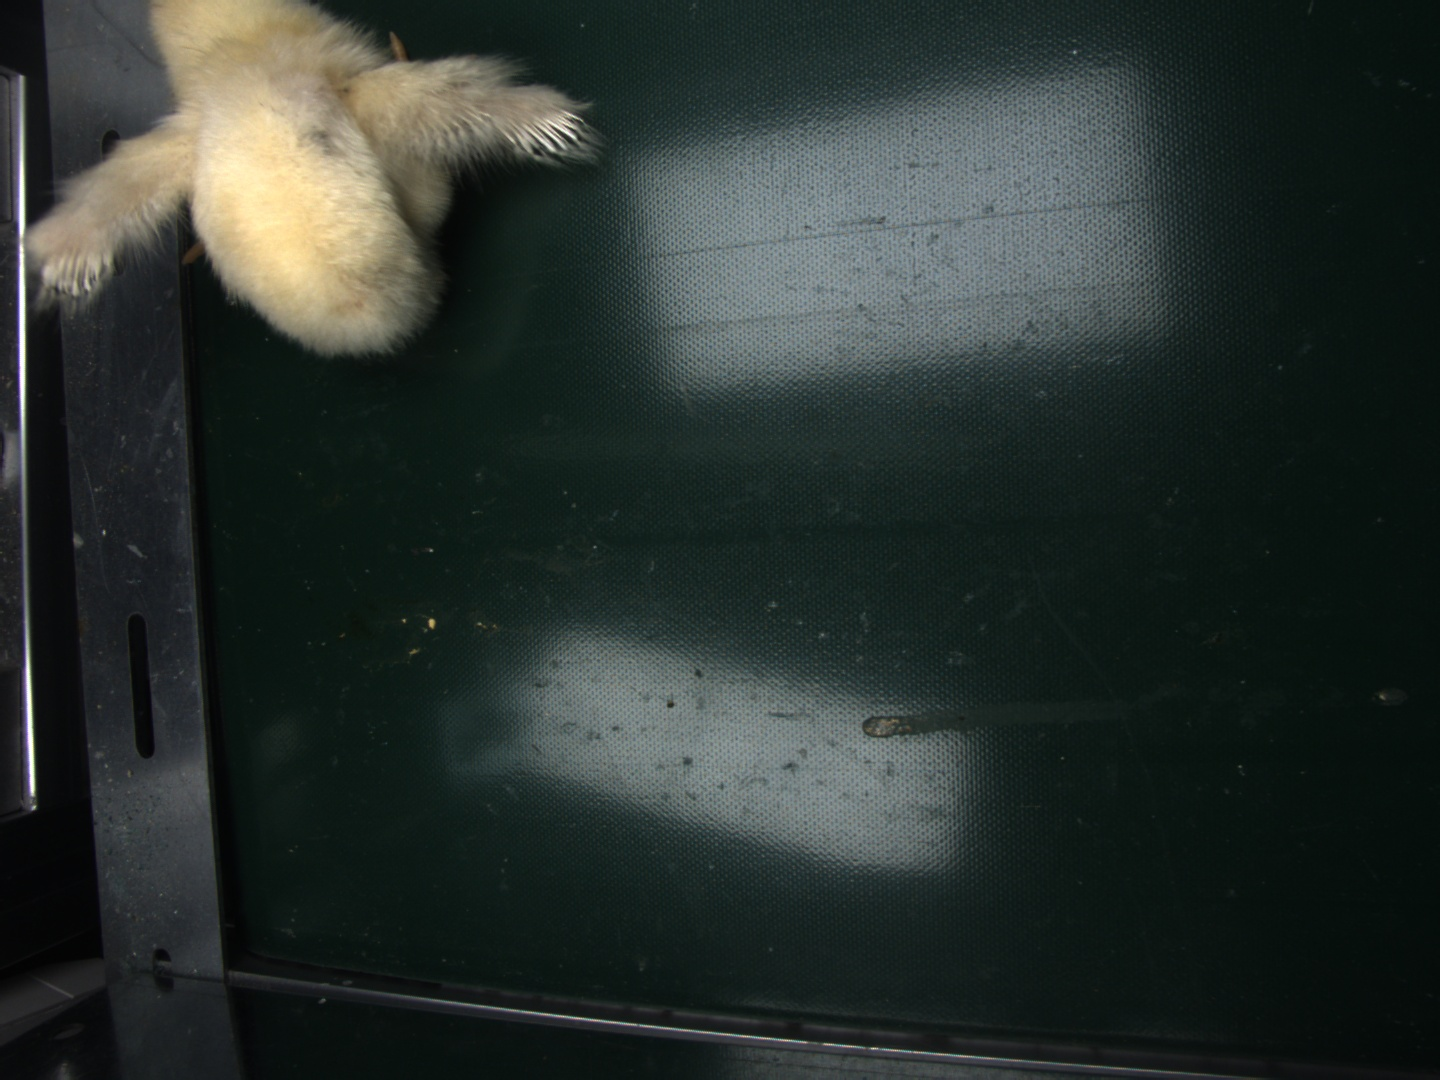male: (503, 104, 592, 157)
